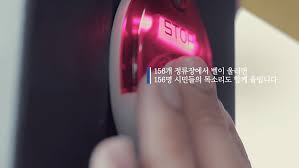bell: (105, 1, 218, 138)
